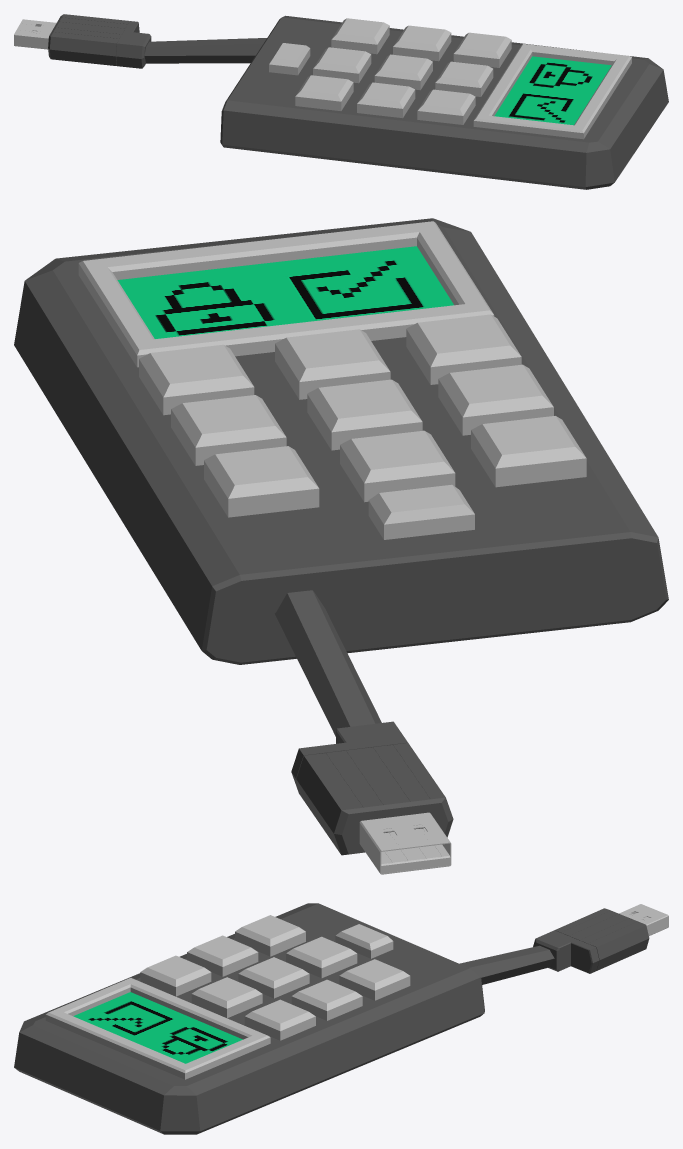
The model's file is FindUnlocked_interactable_L3_drive_v8.gltf.
The picture shows the model from 3 angles, top to bottom: view 1: azimuth 30°, elevation 25°; view 2: azimuth 150°, elevation 25°; view 3: azimuth 270°, elevation 25°; orthographic projection. The views are drawn at different scales.
Visible parts, largest first — view 1: FU_interactable_Level3_drive; view 2: FU_interactable_Level3_drive; view 3: FU_interactable_Level3_drive.
Boxes of the visible parts, bbox=[...] form: FU_interactable_Level3_drive: bbox=[14, 14, 668, 189]; FU_interactable_Level3_drive: bbox=[14, 218, 668, 874]; FU_interactable_Level3_drive: bbox=[14, 903, 668, 1134].
Size of the model in its own units: 0.6291 by 0.0863 by 0.7869.
Materials: 4 (1 with a texture image).
